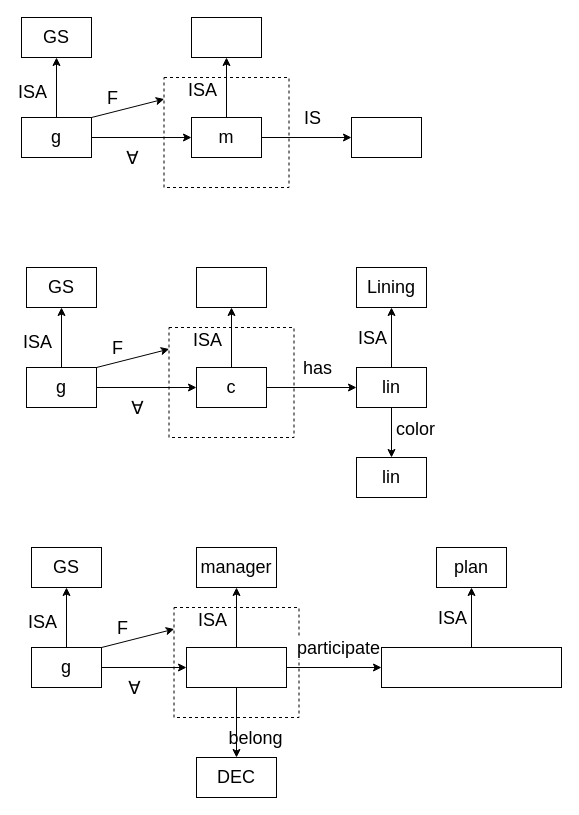
This 579x815 diagram has some shape labels left out. Each missing label, with the centre of its shape:
"Branch manager" goes at (x=236, y=667).
"cloud" goes at (x=231, y=287).
"man" goes at (x=226, y=37).
"mortal" goes at (x=386, y=137).
"Profit sharing plan-1" goes at (x=471, y=667).
